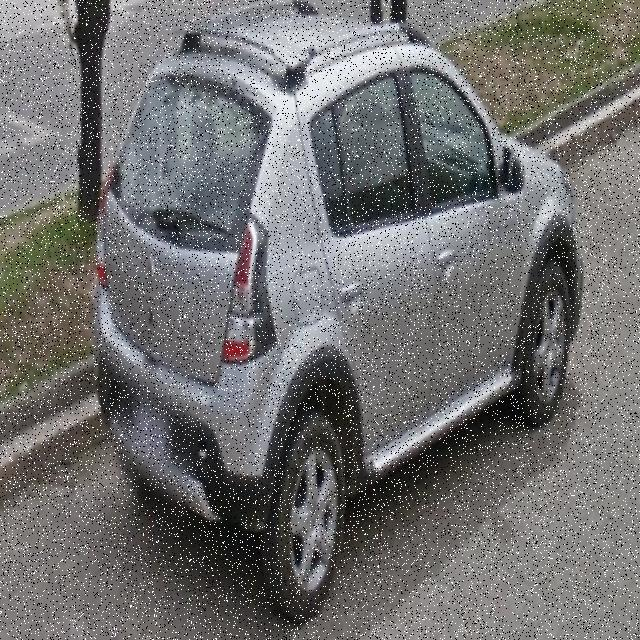cars: (92, 9, 586, 620)
